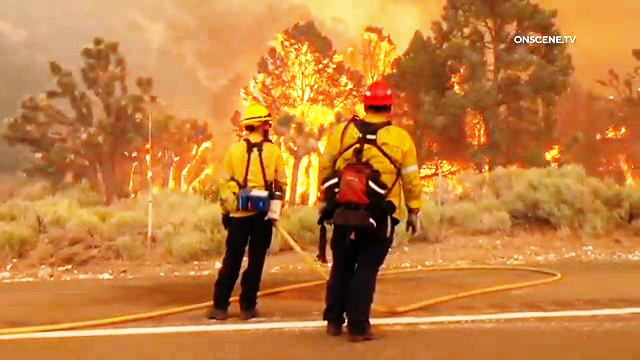fire: (270, 8, 370, 116)
